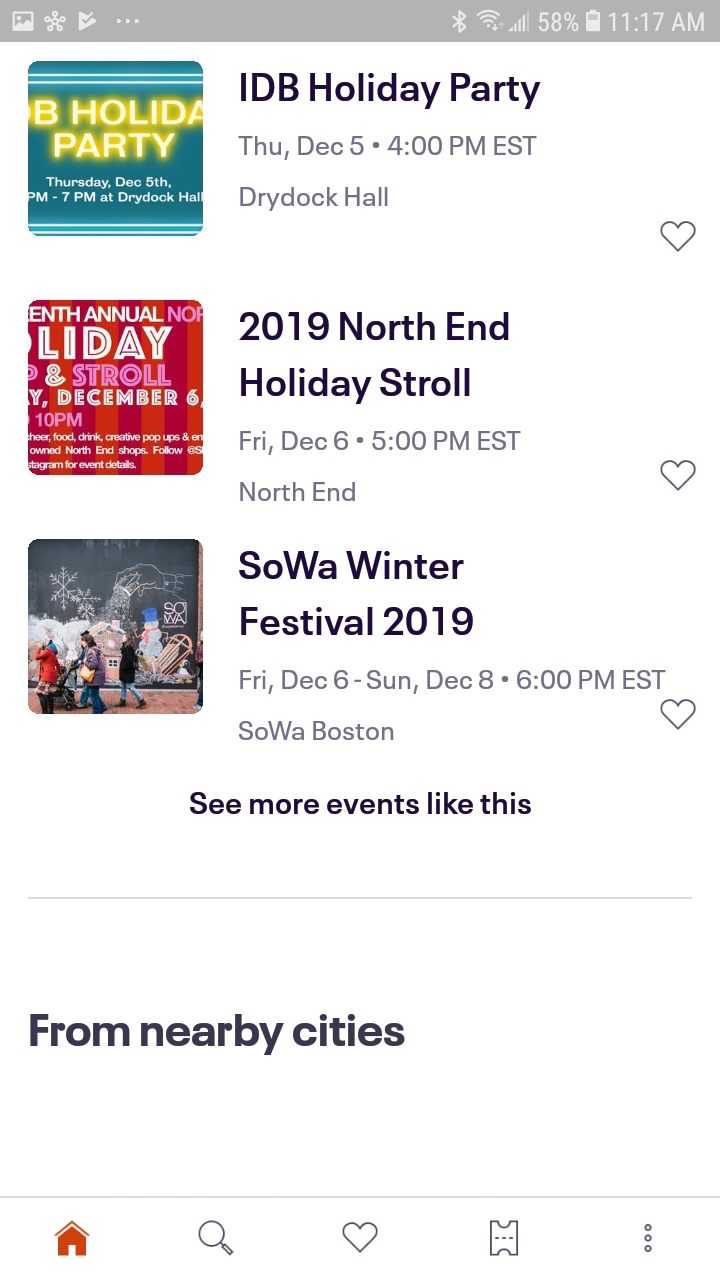Icon: (198, 1219, 235, 1256), (55, 1220, 91, 1257), (660, 221, 697, 253), (342, 1221, 379, 1253), (660, 460, 696, 492), (660, 699, 697, 730), (489, 1219, 519, 1257), (644, 1223, 653, 1253)
Image: (28, 539, 204, 715), (28, 300, 204, 476), (29, 61, 204, 237)
Text: (239, 312, 509, 406), (239, 550, 474, 636), (30, 1014, 406, 1056), (240, 73, 541, 111), (240, 669, 666, 695), (190, 791, 531, 815), (239, 136, 538, 162), (240, 431, 521, 456), (240, 186, 389, 213), (239, 721, 394, 741), (240, 482, 356, 503)
UpperTaskBar: (1, 1, 720, 43)
